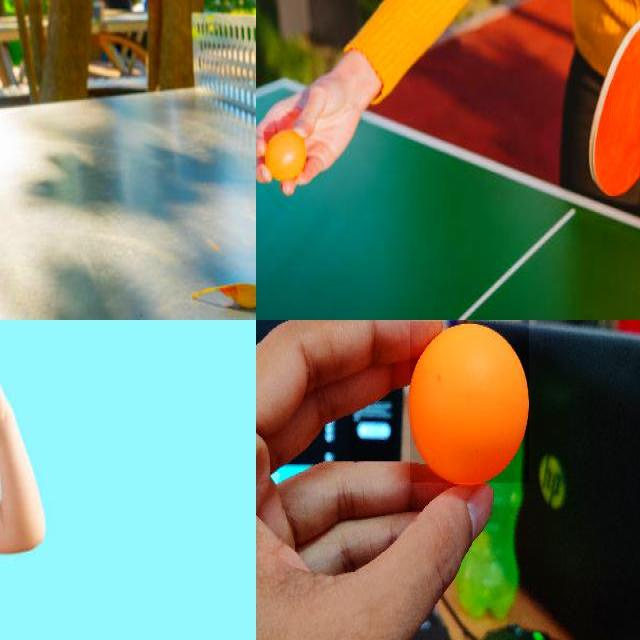ping-pong-ball: (410, 321, 530, 484), (264, 132, 306, 180)
